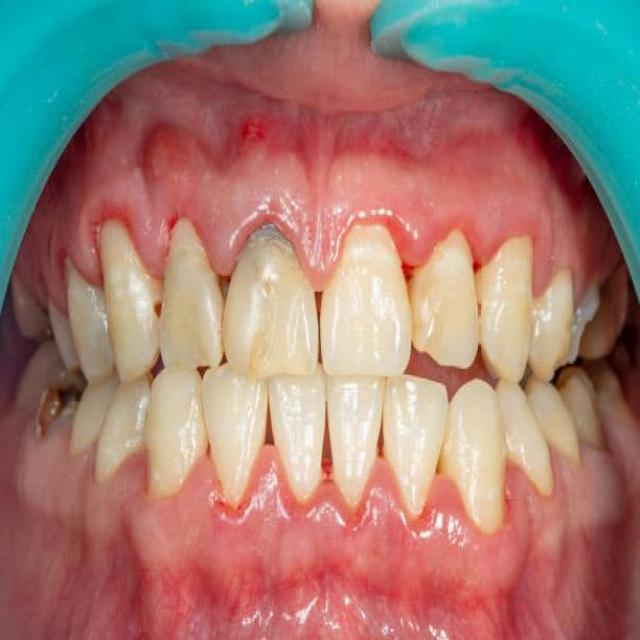Gingivitis: (102, 555, 536, 634), (212, 89, 500, 158), (135, 120, 204, 187)
